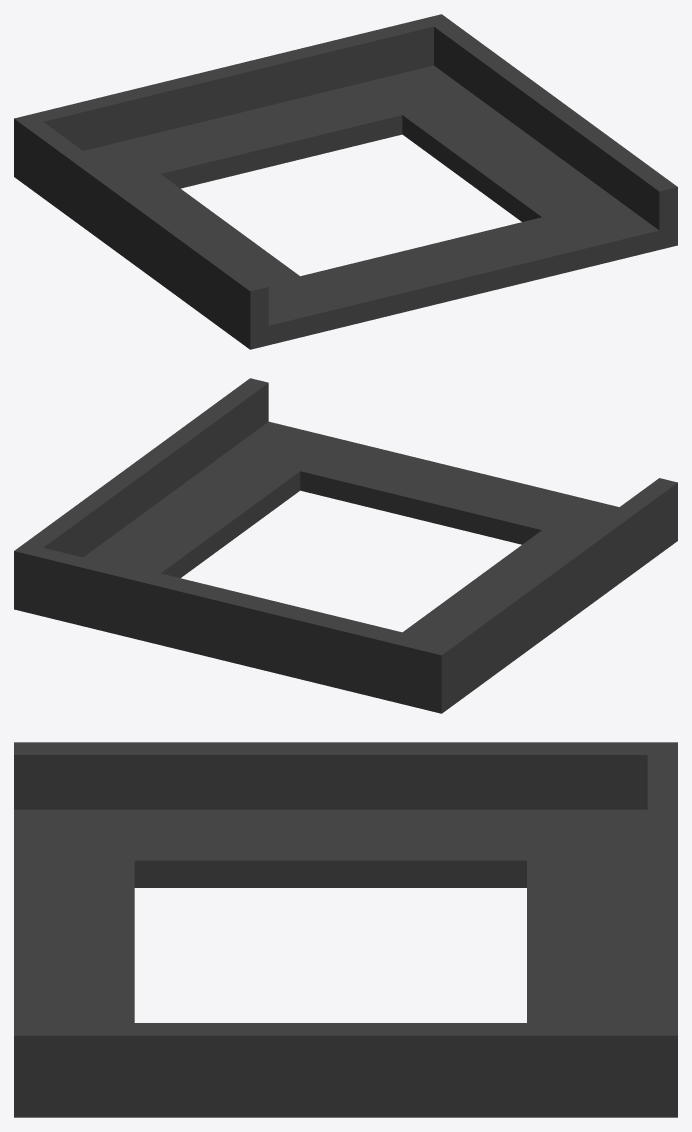
File: puzzle2_4.obj
3 views of the same model, one above another, from view 1: azimuth 30°, elevation 25°; view 2: azimuth 150°, elevation 25°; view 3: azimuth 270°, elevation 25° (orthographic). The views are drawn at different scales.
Size of the model in its own units: 9.2 by 1.2 by 8.8.
1 material, 1 textured.
